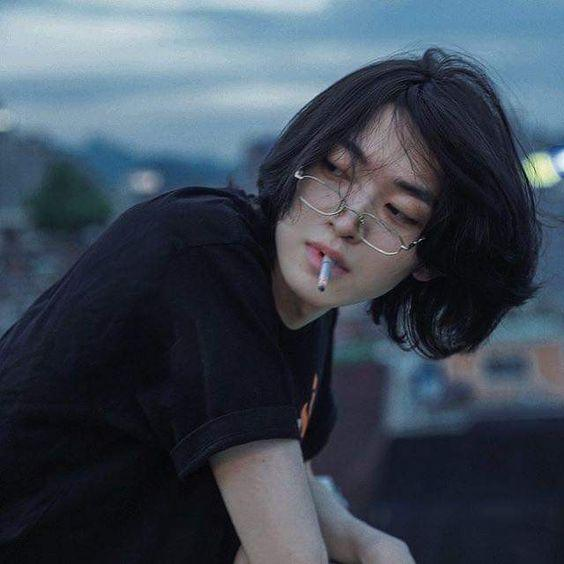cigarette: (318, 255, 333, 293)
